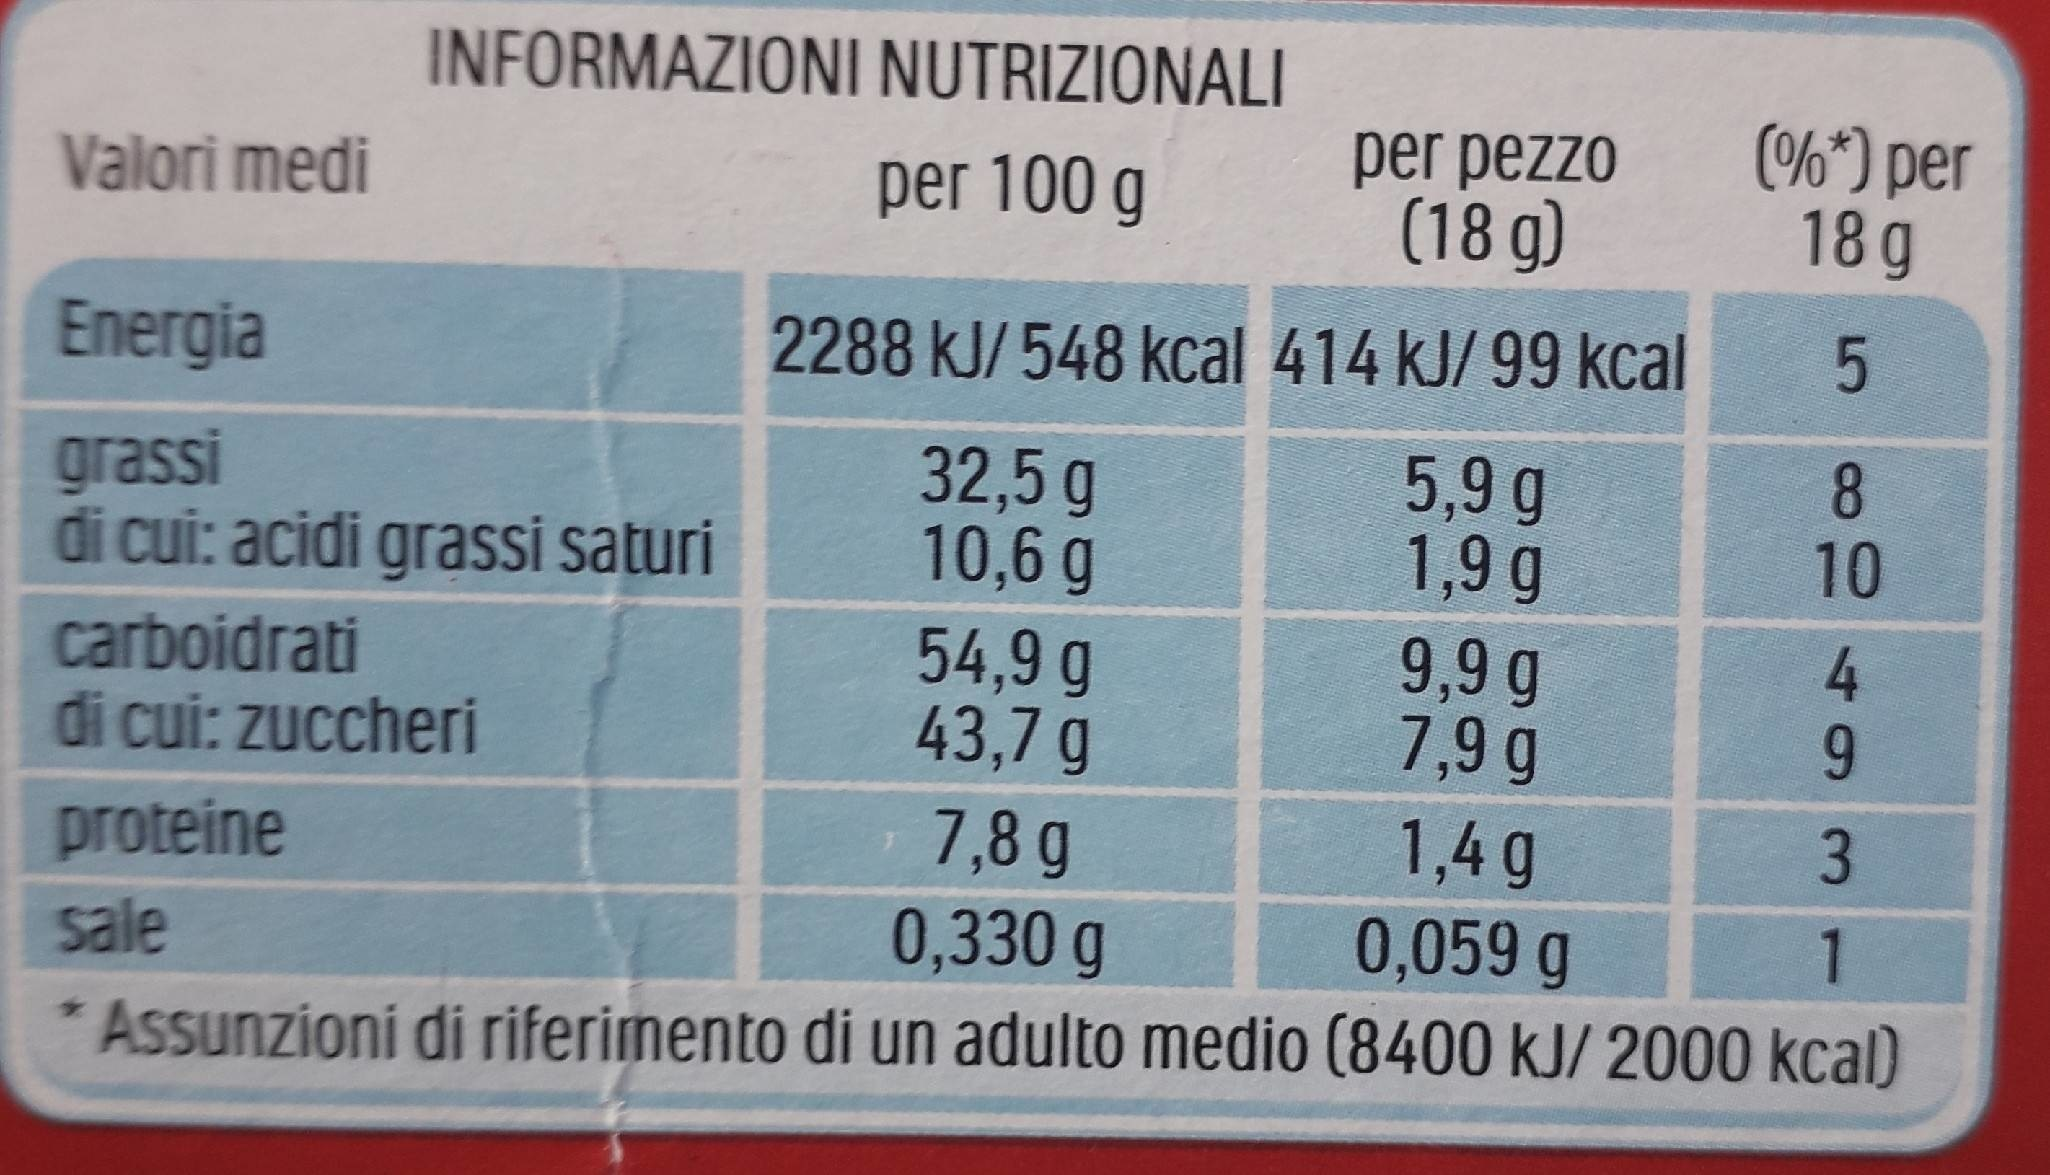column: (17, 122, 738, 989), (765, 122, 1247, 989), (1271, 118, 1692, 999), (1711, 114, 1994, 1003)
table: (7, 121, 1973, 1002)
